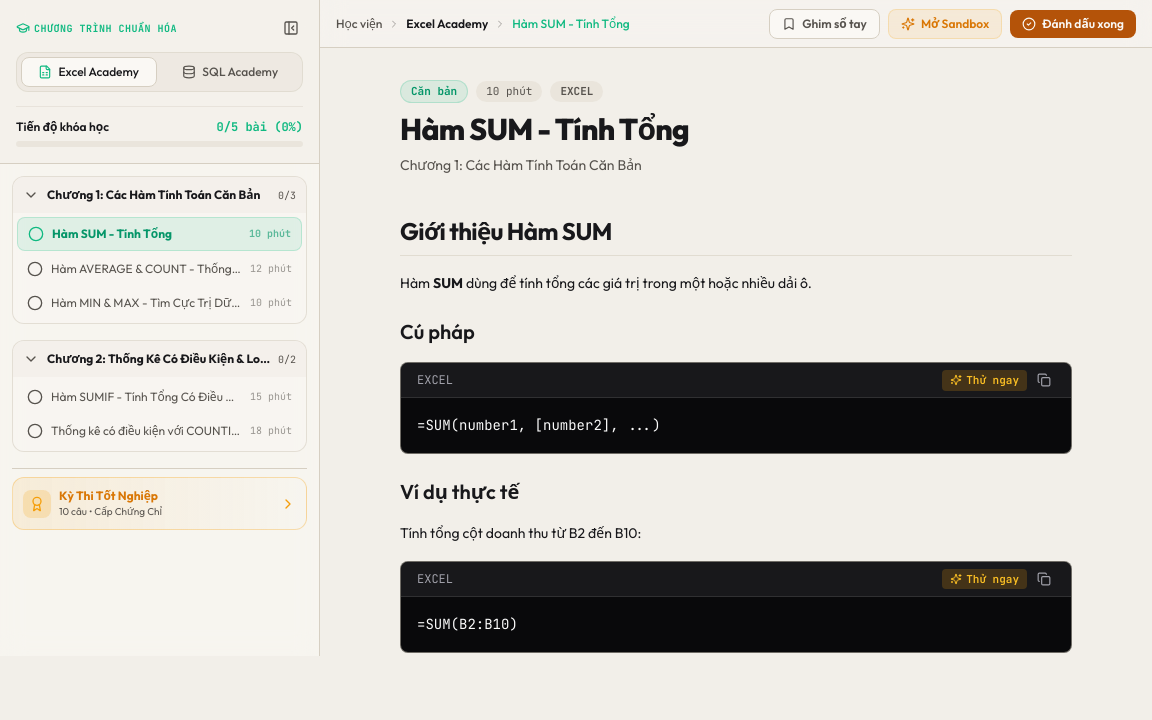
AcademyCoursePage Tests (Sprint 9.5 — Step 9.5.2) › 3. Chọn bài học từ sidebar cập nhật bài đọc tương ứng
Expected: the heading "Hàm SUM - Tính Tổng" is shown, [400, 110, 689, 148]
// Click vào bài học AVERAGE & COUNT trong sidebar (dùng role link bắt đầu bằng tiêu đề)
What coordinates should you click on to do the following:
click the link "Hàm AVERAGE & COUNT - Thống Kê Cơ Bản 12 phút"
I would click on:
 (160, 269)
Its box is [27, 261, 292, 277].
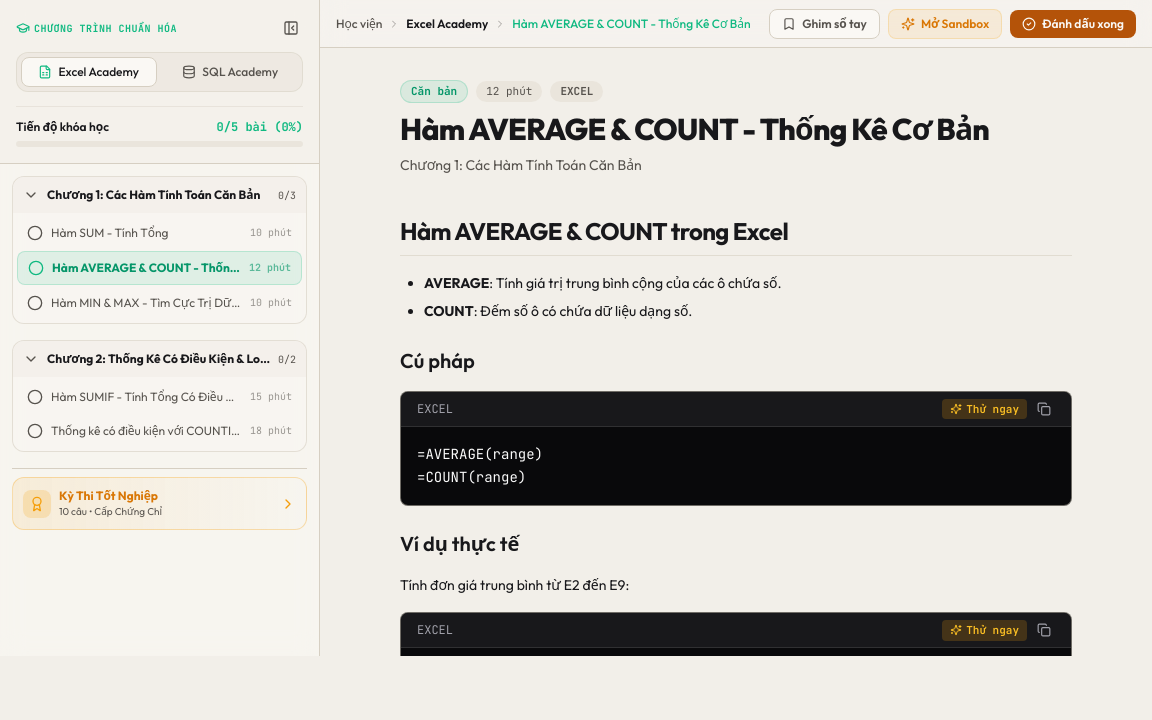
Now the heading "Hàm AVERAGE & COUNT - Thống Kê Cơ Bản" is shown, box [400, 110, 1072, 146]
